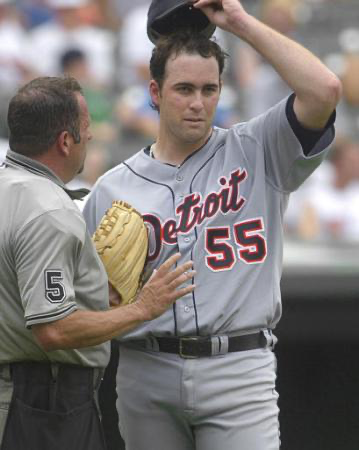Face: (160, 59, 228, 143)
